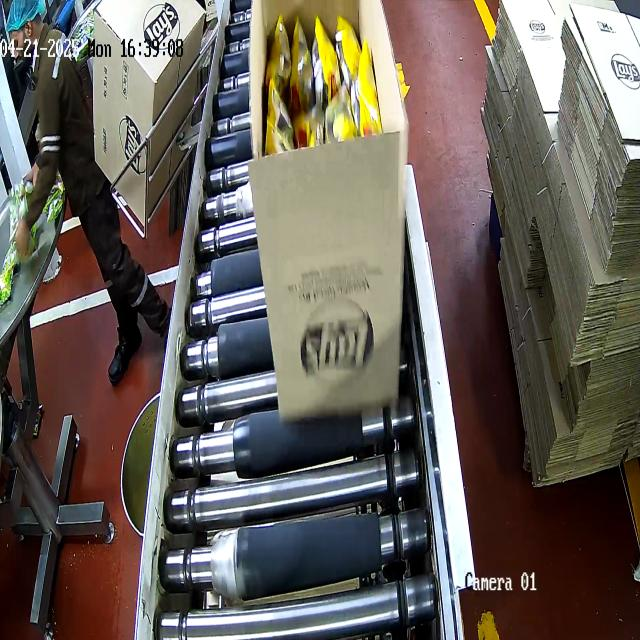SALTED: (264, 10, 383, 154)
